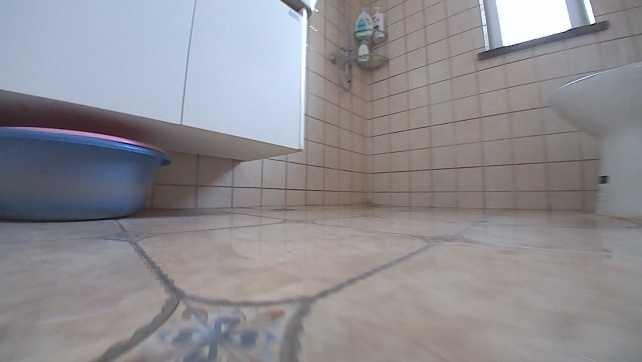toilet: (546, 59, 640, 220)
